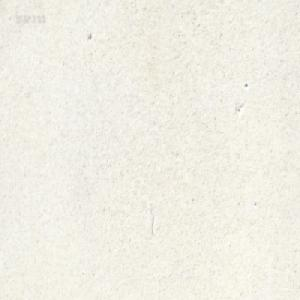Wrench: (157, 0, 164, 4)
